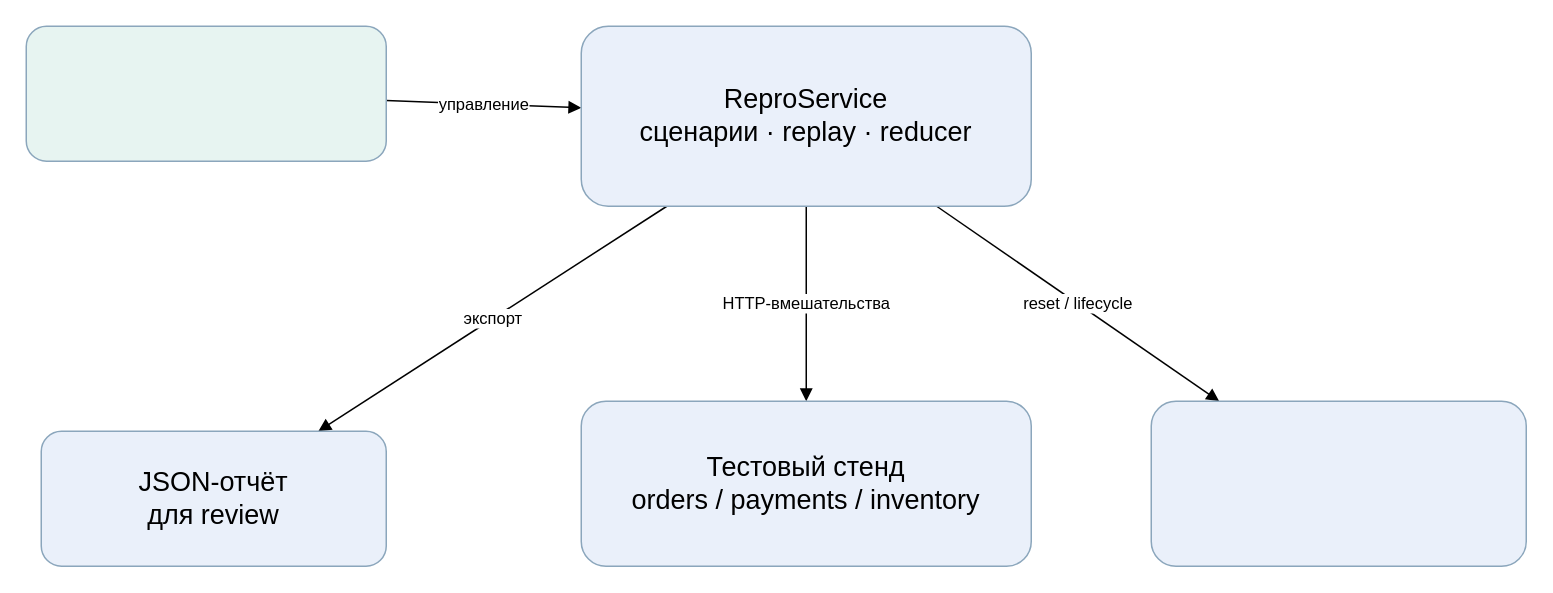
Image size: 1553x593. Some labels were removed from this diagram. The shapes that lost their labels are listed below. From the top down, each one's centre as x and y in pixels, then its label:
At [205,93]: "Backend / QA инженер".
At [1338,483]: "Docker Engine локальный стенд".
